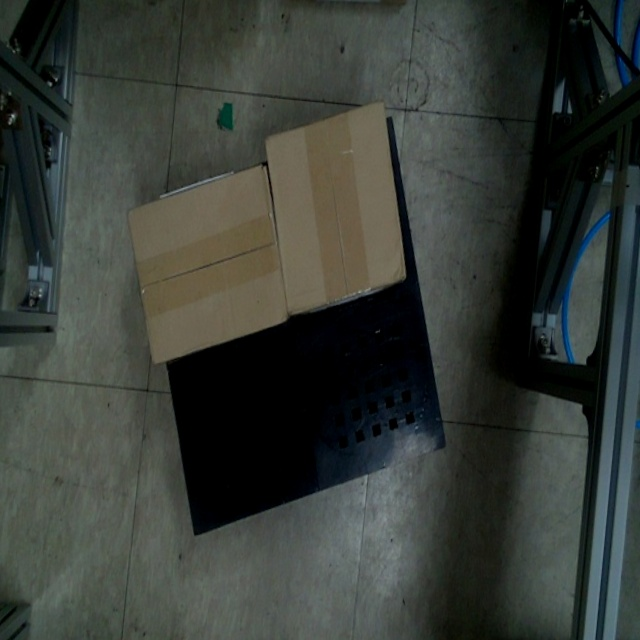box: (262, 94, 412, 319), (130, 164, 291, 363)
